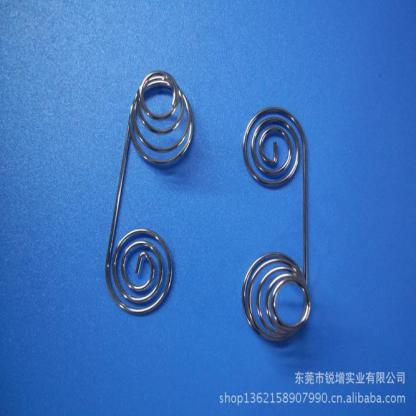FOD: (103, 67, 196, 320), (237, 102, 314, 350)
